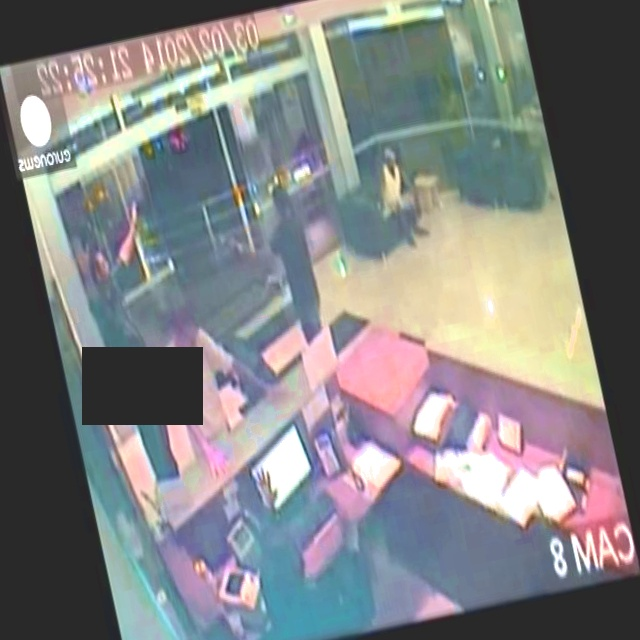gun: (216, 228, 243, 255)
